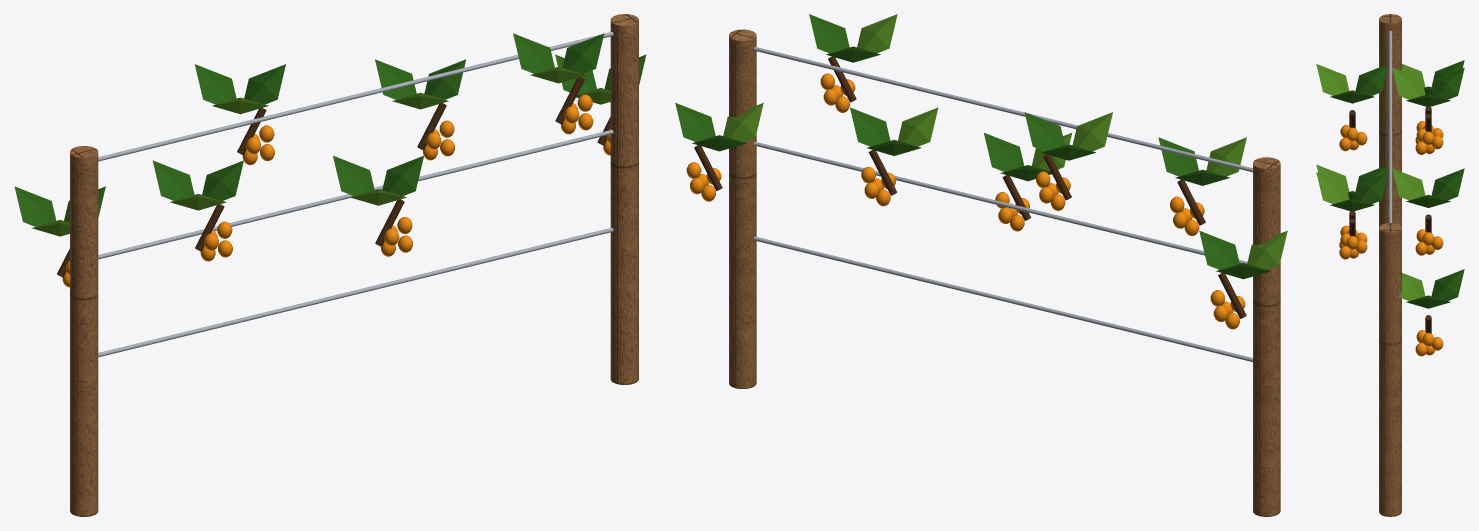
Rendered from Szolo_feher.obj.
3 views of the same model, side by side, from view 1: azimuth 30°, elevation 25°; view 2: azimuth 150°, elevation 25°; view 3: azimuth 270°, elevation 25° (orthographic). The views are drawn at different scales.
Size of the model in its own units: 2.98 by 1.72 by 0.7811.
6 materials, 1 textured.
